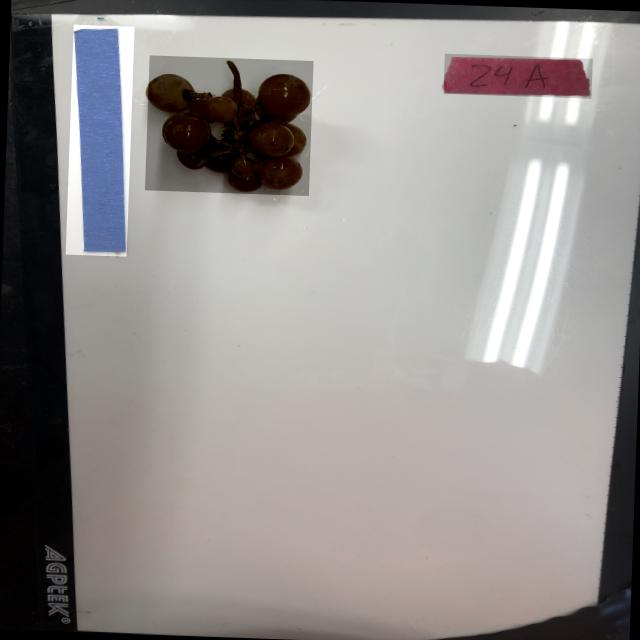grape_cluster: (144, 54, 313, 196)
index: (443, 53, 592, 98)
measure_label: (65, 25, 134, 256)
